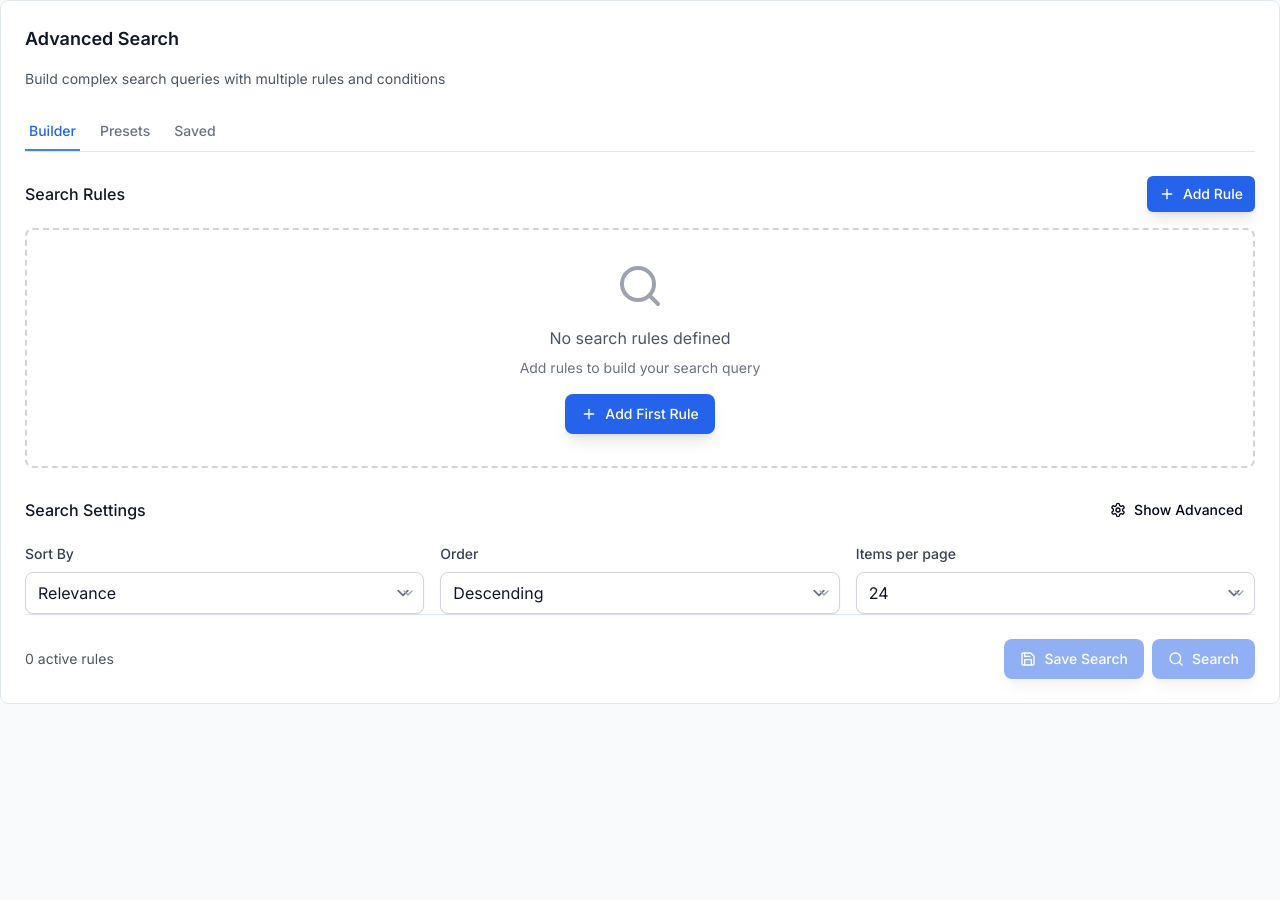
Test: AdvancedSearch › switches to saved tab and shows empty state
This screenshot has width=1280, height=900.
Click the button "Saved". click: (195, 132)
box: top-left (170, 113), bottom-right (220, 151)
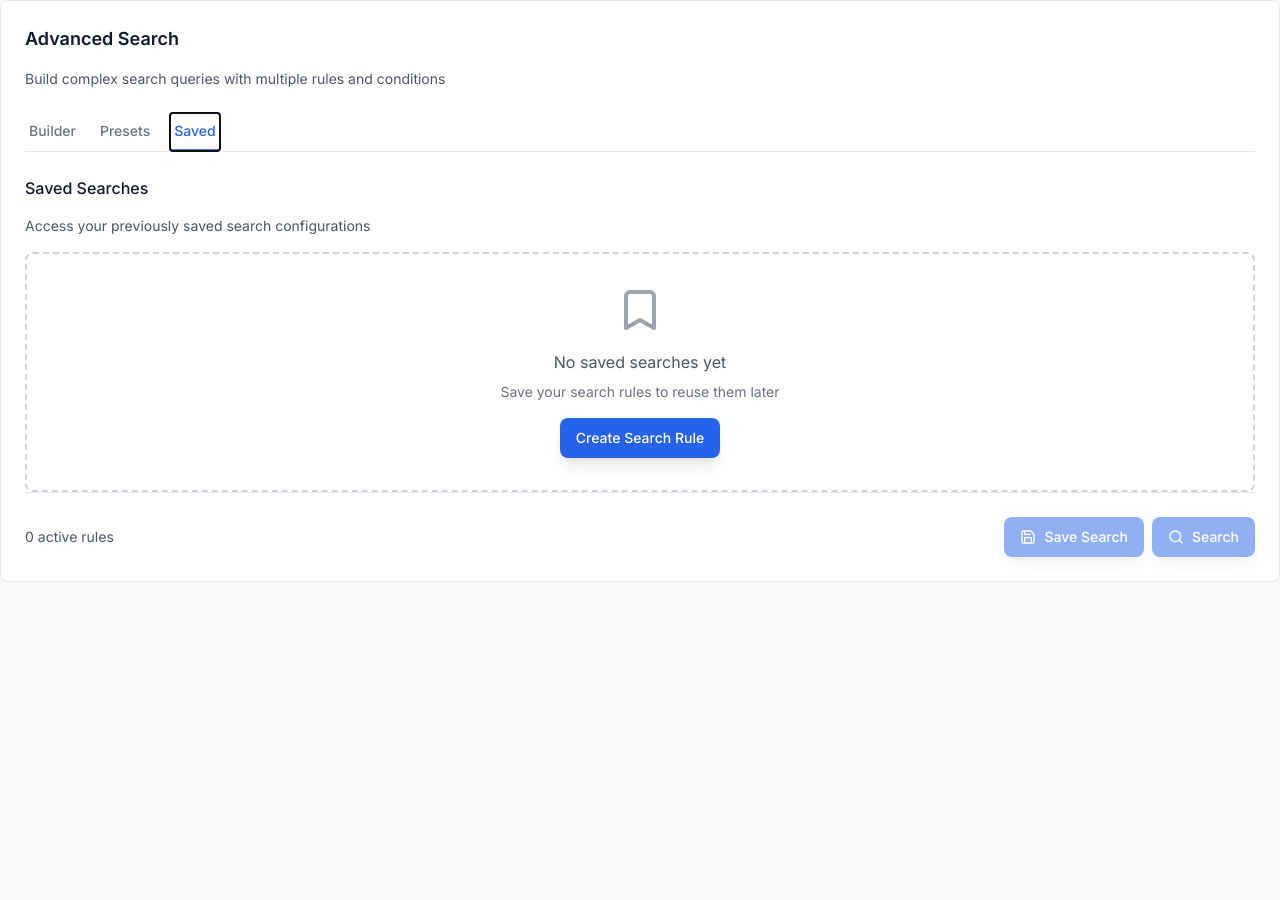
Expected: the heading "Saved Searches" is shown, top-left (25, 178), bottom-right (148, 198)
Expected: the text "No saved searches yet" is shown, top-left (554, 352), bottom-right (726, 372)
